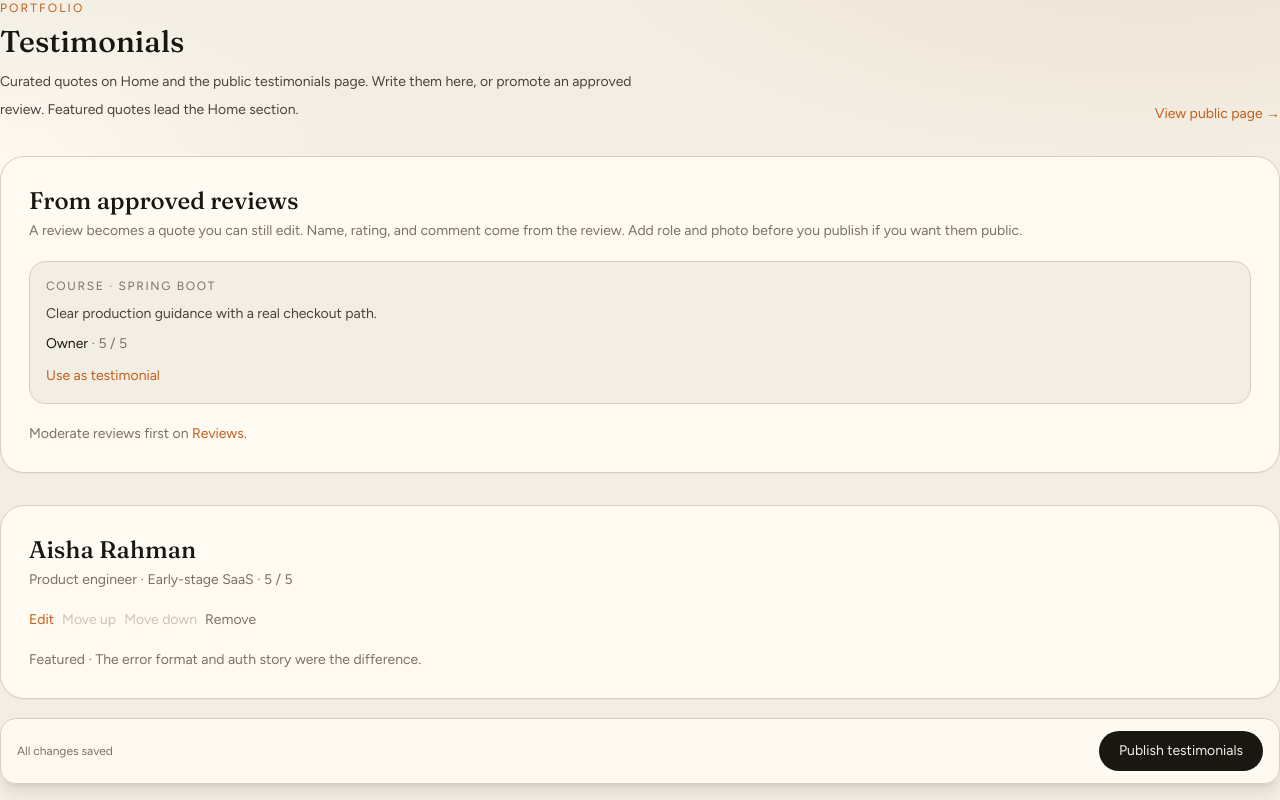
Test: AdminTestimonialsPage › promotes an approved review
Expected: the heading "From approved reviews" is shown, [29,186,299,215]
Click the button "Use as testimonial". click: click(103, 376)
box: [46,366,160,386]
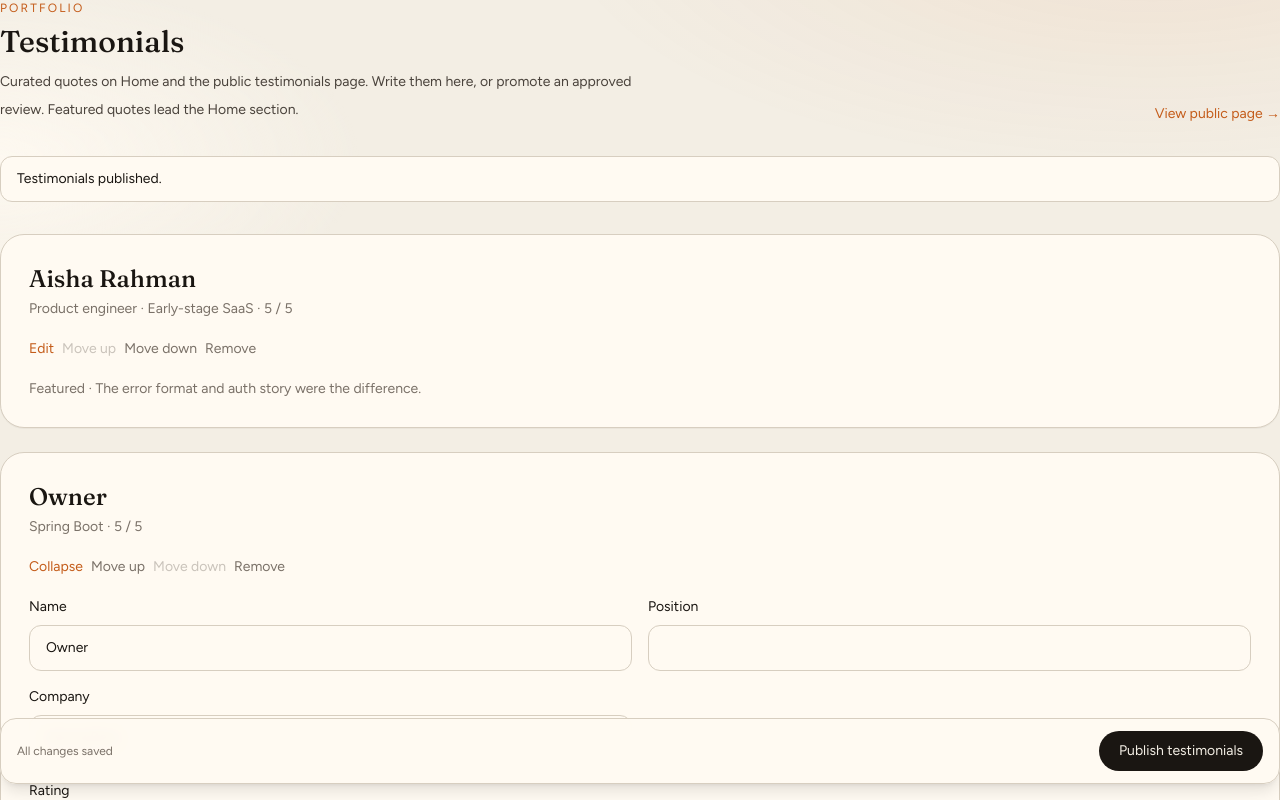
Now the heading "Owner" is shown, box [29,482,107,511]
Now the field showing "Spring Boot" is shown, box [29,715,632,761]
